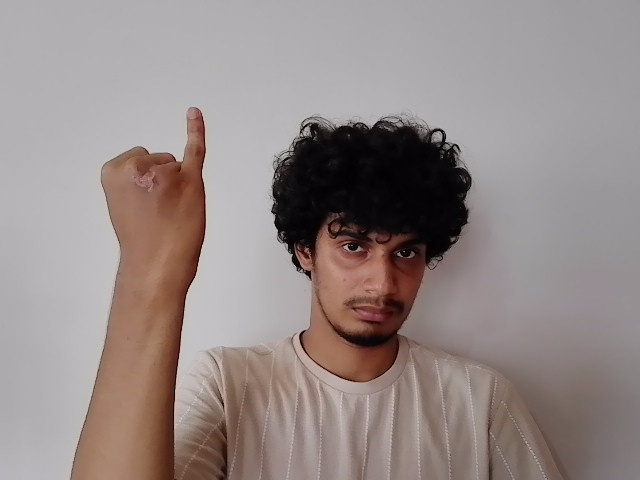bad: (100, 104, 211, 282)
